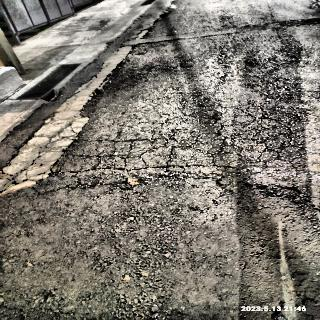alligator-crack: (40, 94, 316, 206)
